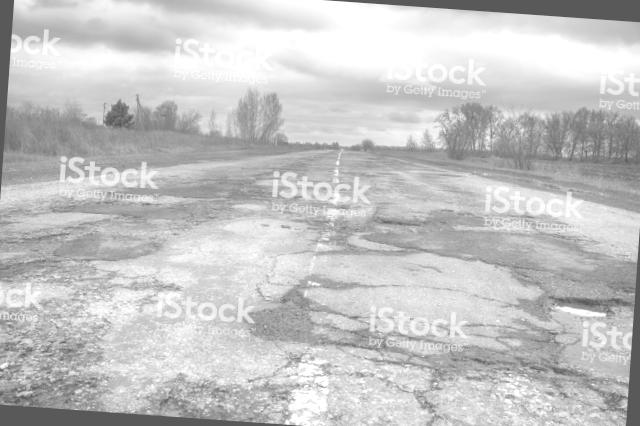Pothole: (0, 340, 292, 424), (434, 162, 640, 249), (486, 341, 631, 426), (538, 279, 636, 347), (368, 200, 441, 248)
